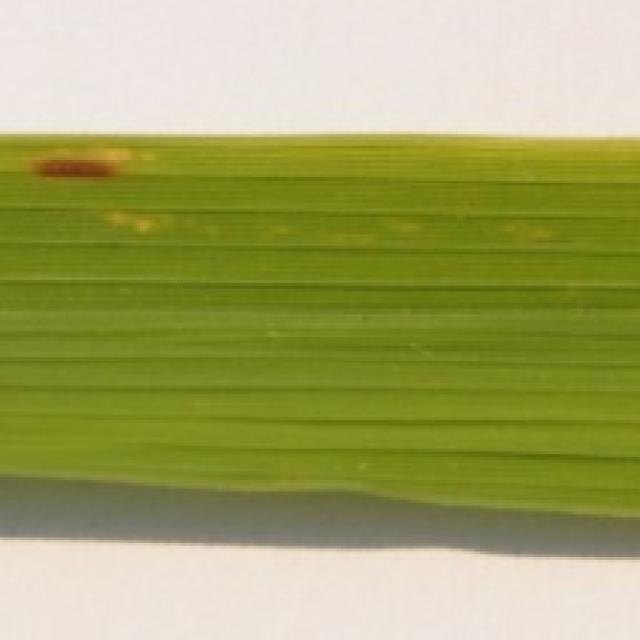Rice___Brown_Spot: (0, 132, 637, 515)
